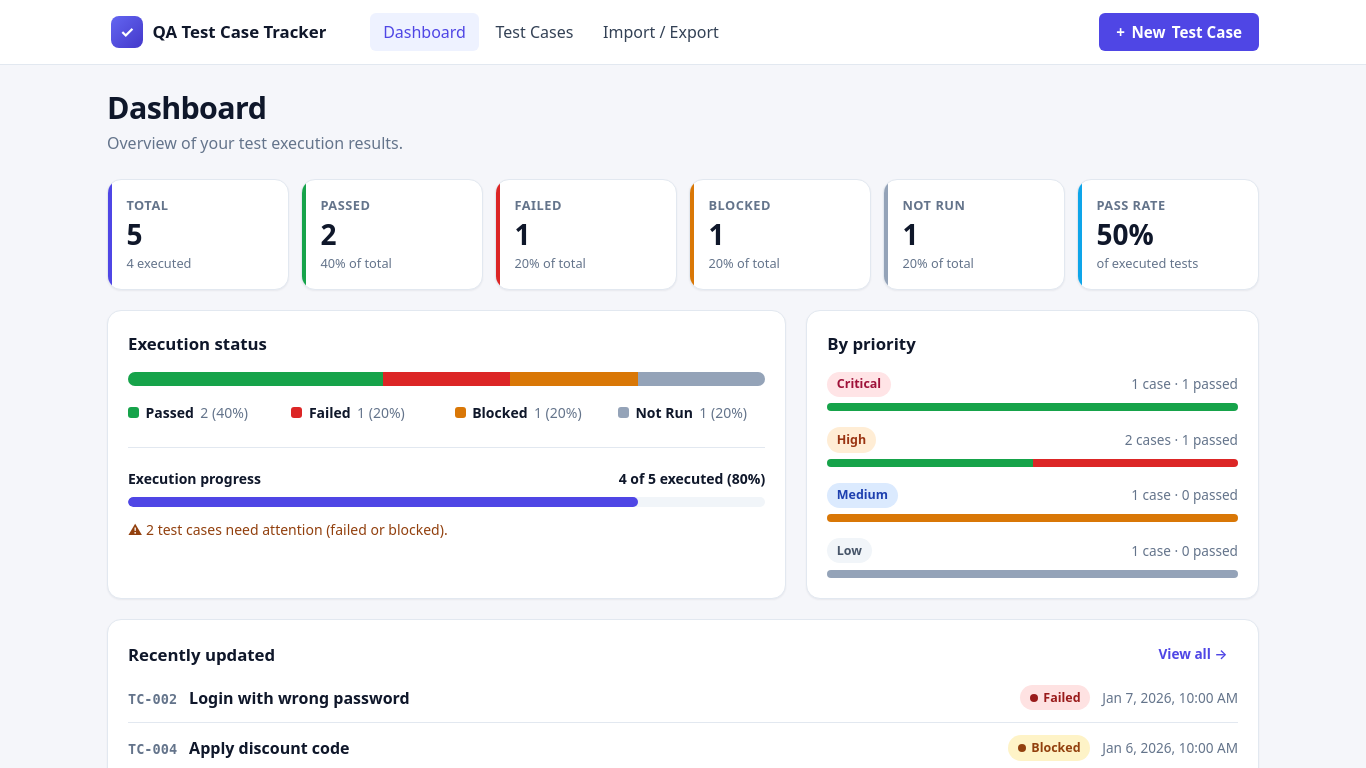
Test: App › deletes a test case after confirmation
The width and height of the screenshot is (1366, 768).
Click the button "Test Cases": (534, 32) [483,13,586,51]
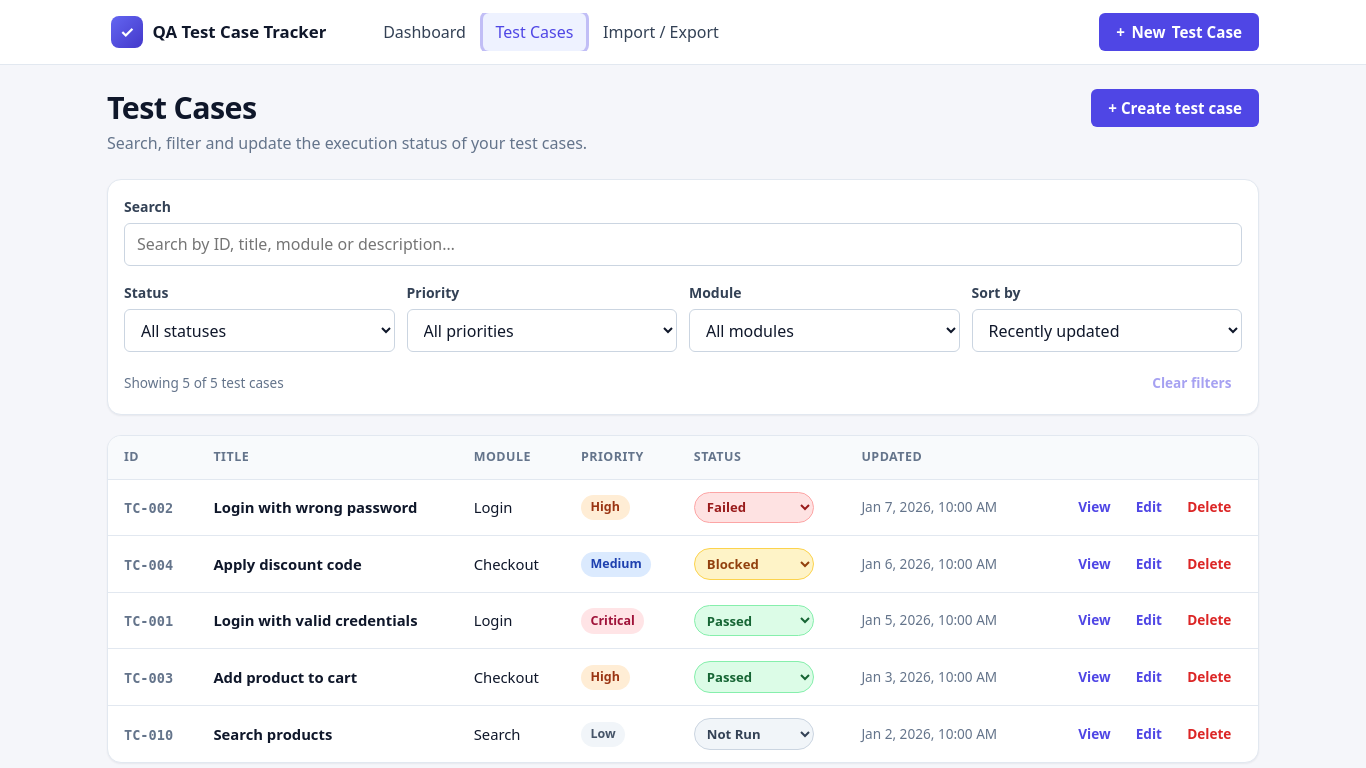
Click the button with aria-label "Delete TC-001": (1209, 621) [1177,606,1242,635]
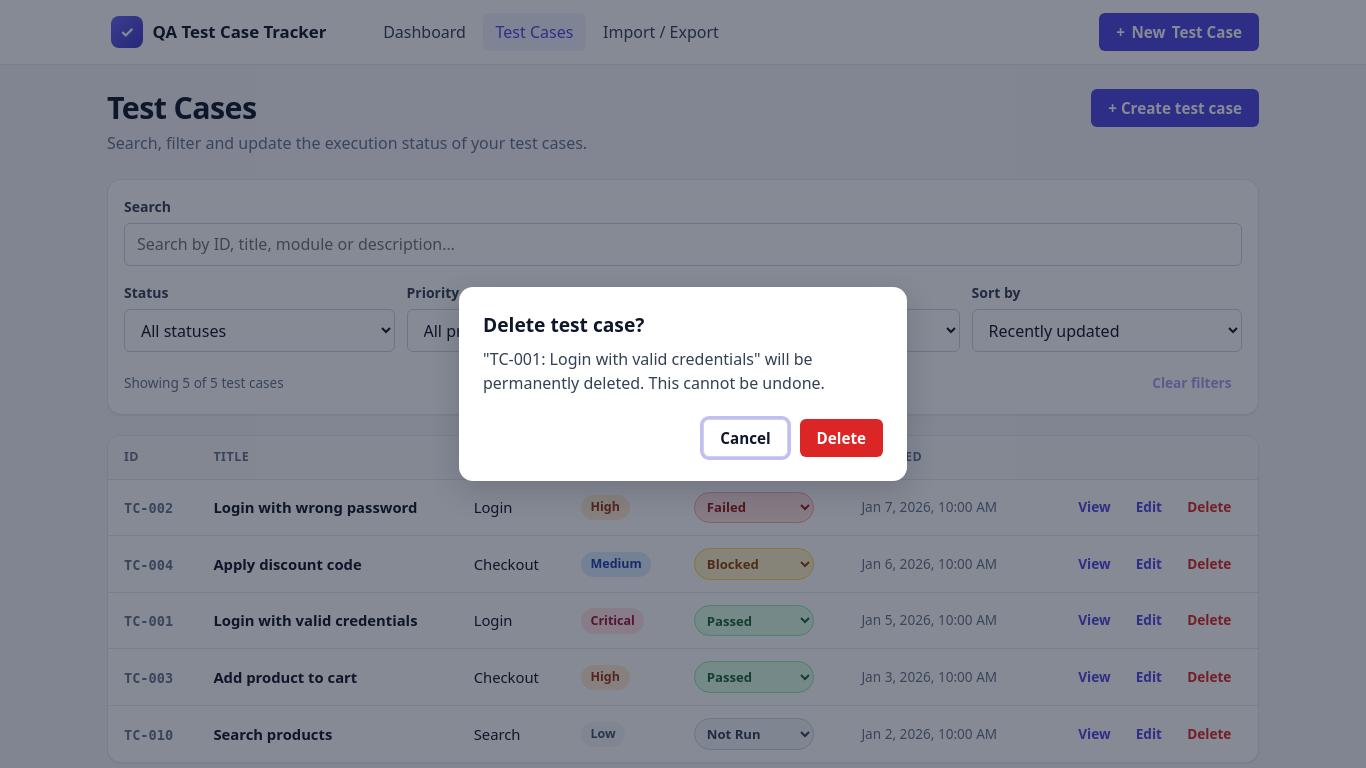
Now the dialog "Delete test case?" shows "TC-001: Login with valid credentials", box [483,348,825,394]
Click the button "Delete": (841, 438) [800,420,883,457]
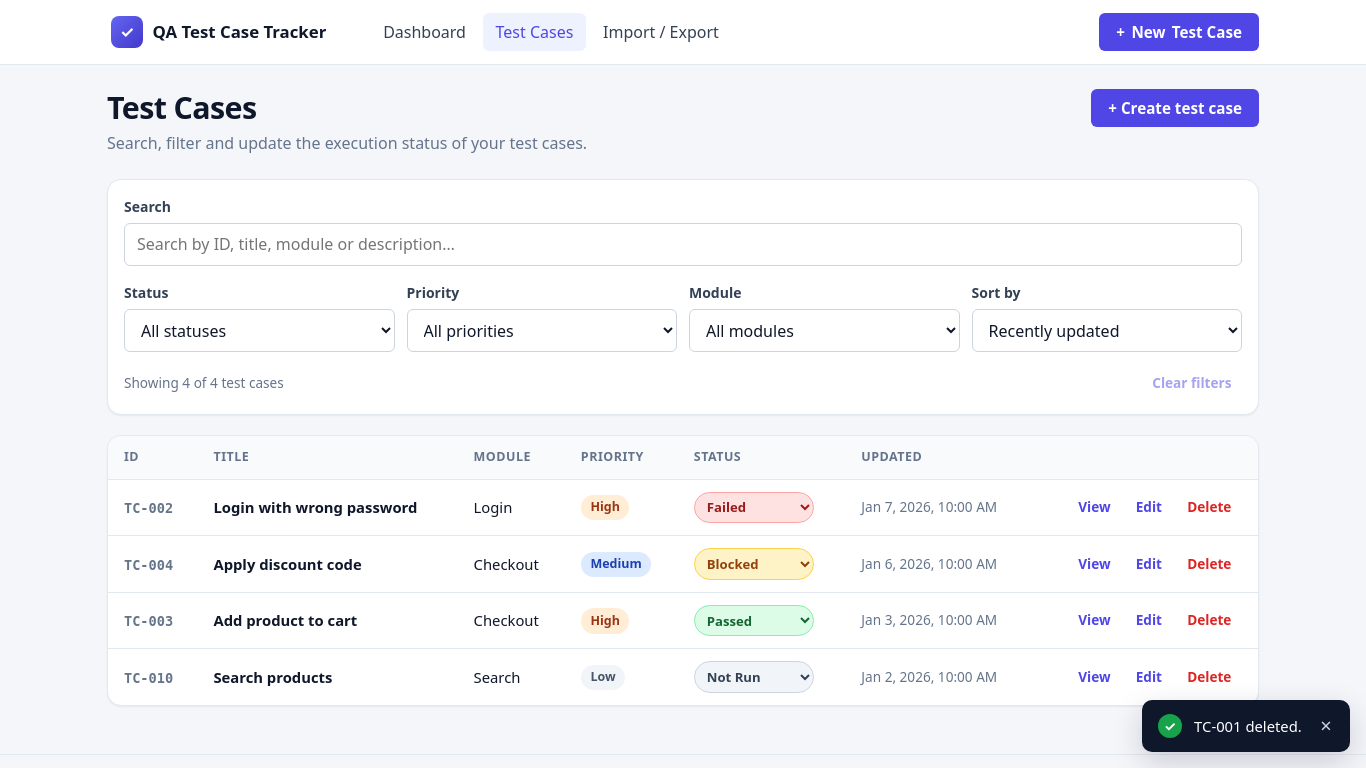
Now the button "Login with valid credentials" is gone
Now the message shows "TC-001 deleted.", box [1194,716,1302,736]
